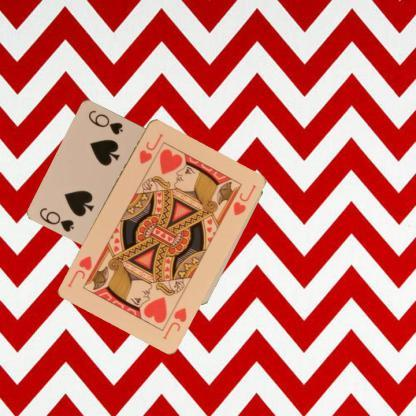6s: (37, 204, 76, 234)
Jh: (136, 130, 164, 166), (160, 304, 188, 340)
